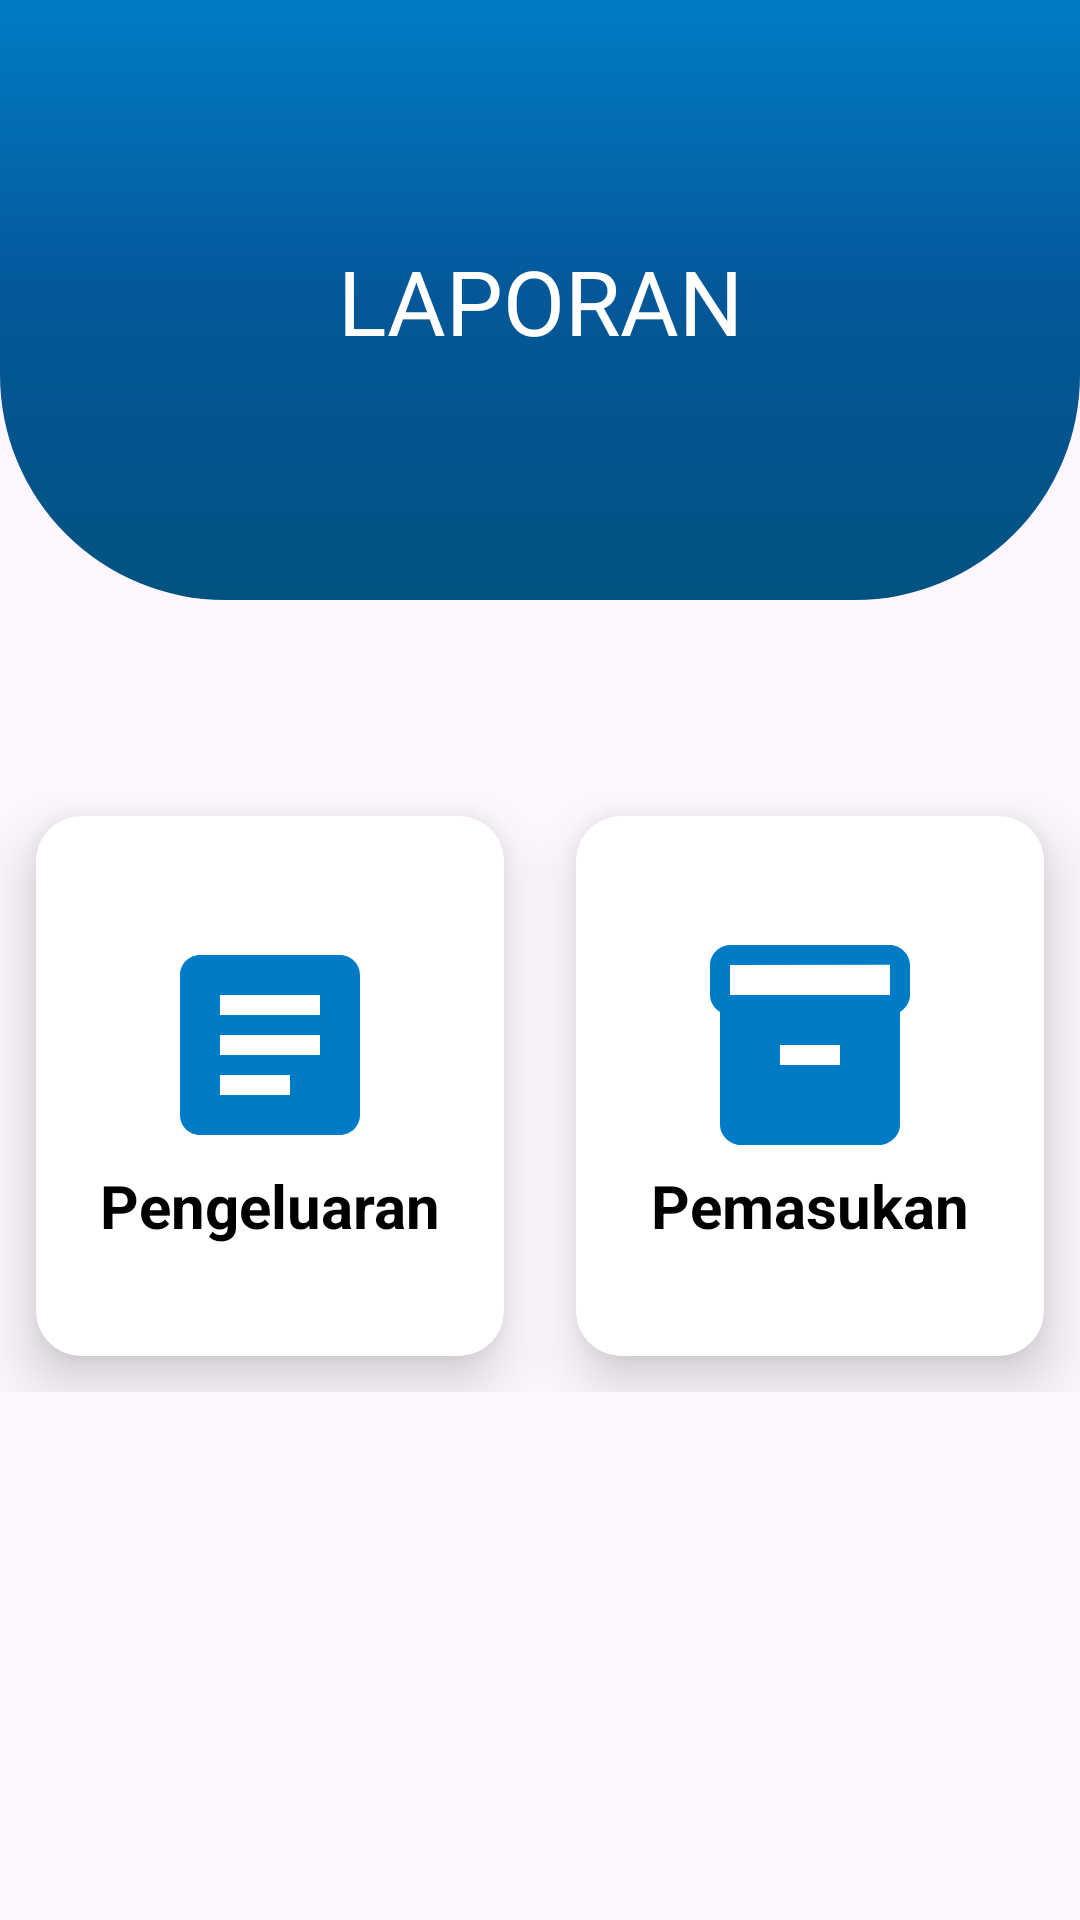

Named icons in this screenshot (1080px×1920px) and their bounding boxes, (x1,y1,x2,y2):
barang: (710,945,910,1145)
document: (180,955,360,1135)
